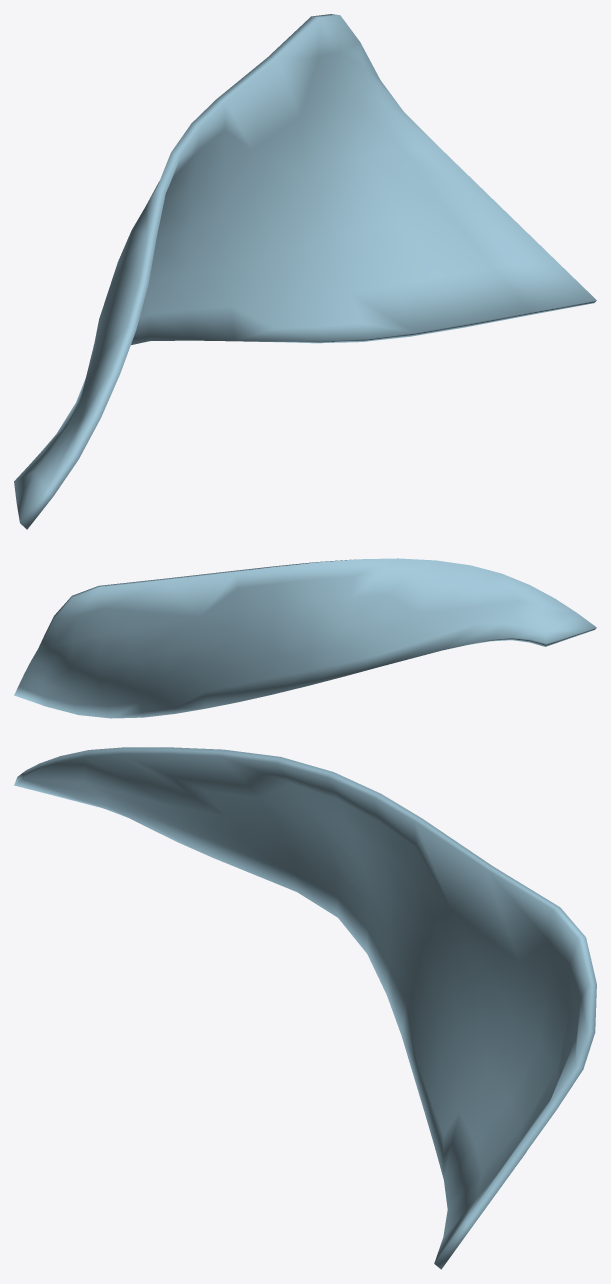
Rendered from articulacoes-ischiofemoral-ligament-r.glb.
The picture shows the model from 3 angles, top to bottom: view 1: azimuth 30°, elevation 25°; view 2: azimuth 150°, elevation 25°; view 3: azimuth 270°, elevation 25°; orthographic projection. The views are drawn at different scales.
Visible parts, largest first — view 1: Ischiofemoral ligament.r; view 2: Ischiofemoral ligament.r; view 3: Ischiofemoral ligament.r.
Part boxes in pixels (<box>): Ischiofemoral ligament.r: <box>14,14,596,529</box>; Ischiofemoral ligament.r: <box>14,558,596,718</box>; Ischiofemoral ligament.r: <box>14,747,596,1269</box>.
Bounding box in the file's own units: 0.0449 × 0.0166 × 0.0309.
